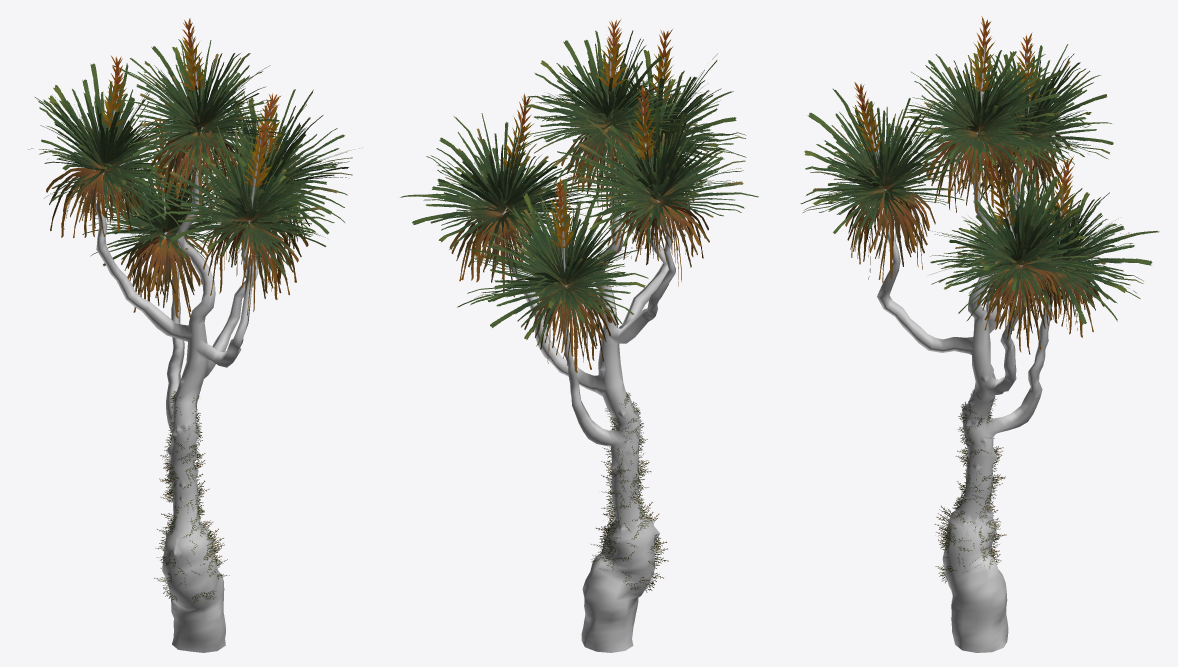
Rendered from Tree_09_1_L1.fbx.
The picture shows the model from 3 angles, left to right: view 1: azimuth 30°, elevation 25°; view 2: azimuth 150°, elevation 25°; view 3: azimuth 270°, elevation 25°; orthographic projection.
Parts seen in each view (by area): view 1: polySurface54; view 2: polySurface54; view 3: polySurface54.
Part boxes in pixels (box(x1,y1,x2,y2)): polySurface54: box(28, 18, 361, 652); polySurface54: box(400, 20, 758, 652); polySurface54: box(800, 16, 1159, 652).
Bounding box in the file's own units: 677 × 1235 × 671.
